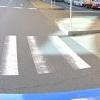crosswalks: (1, 34, 100, 74)
